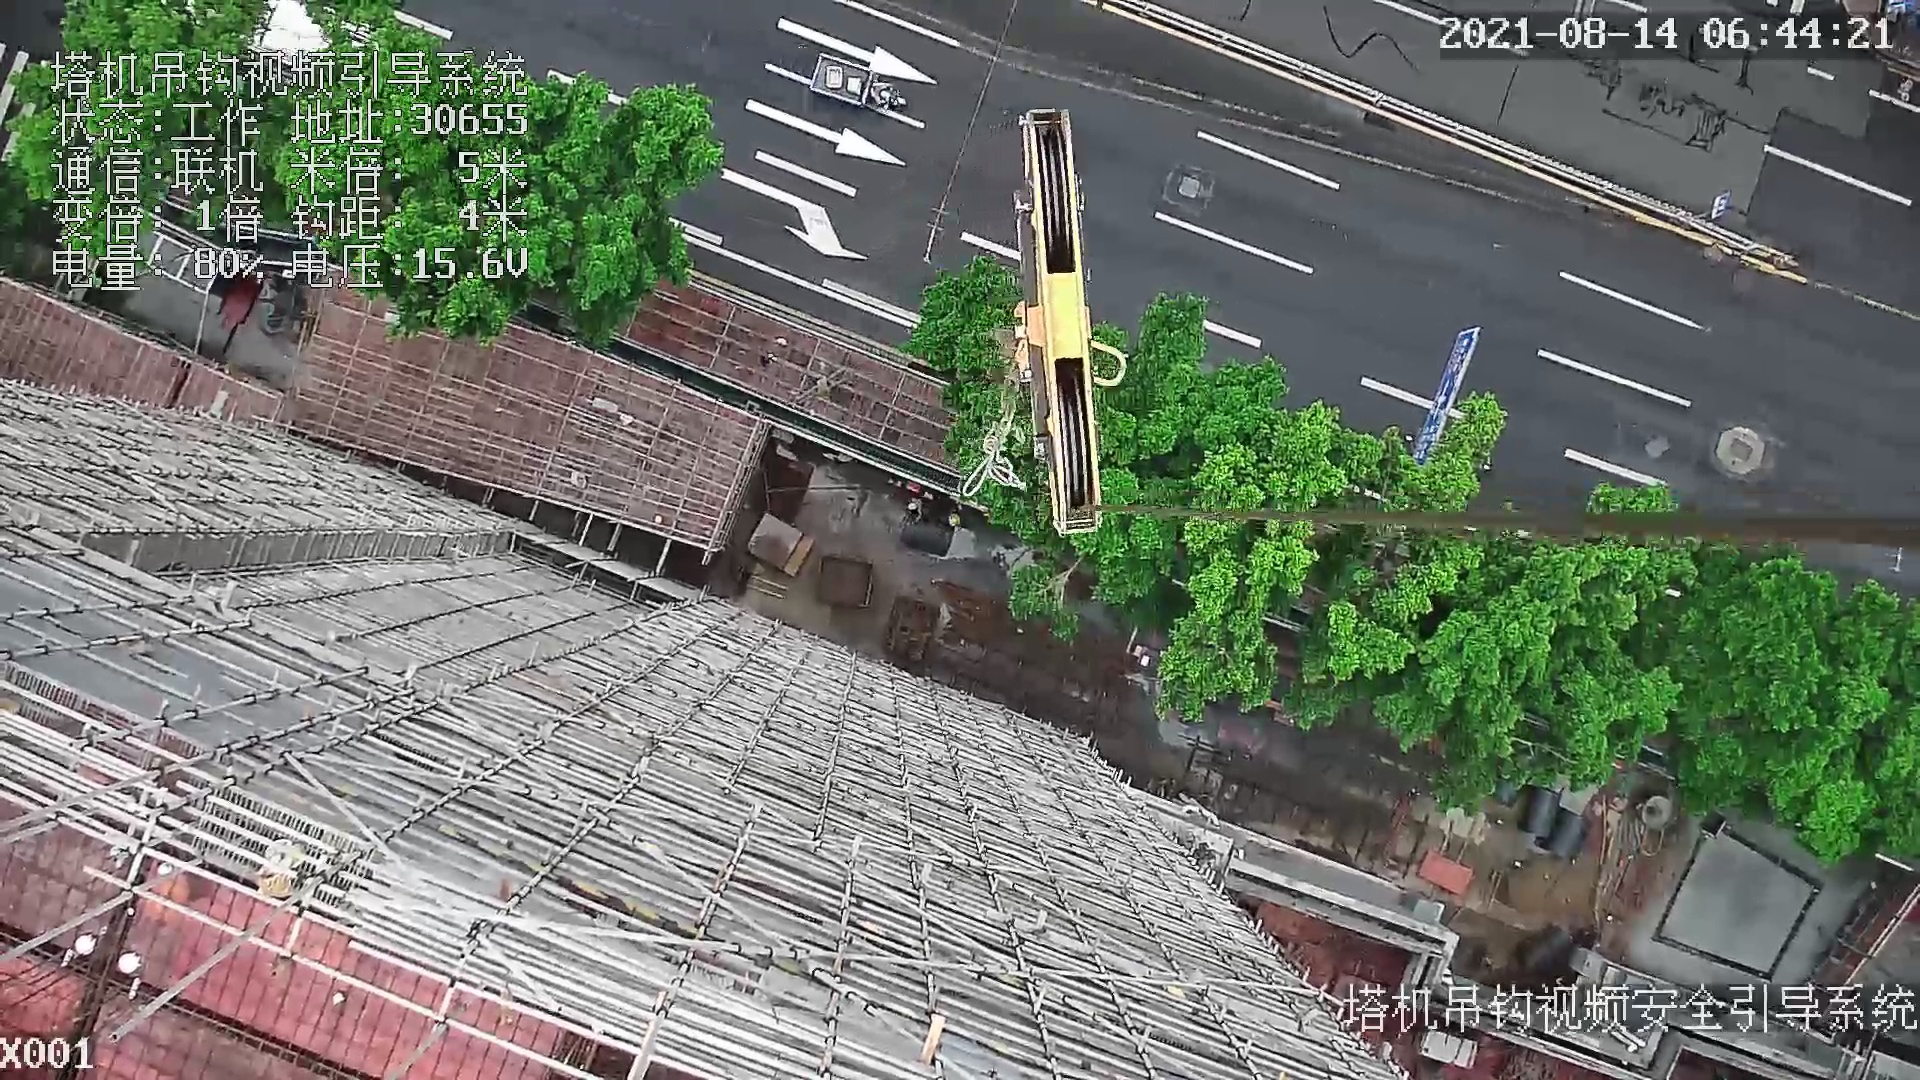hook: (996, 104, 1129, 540)
person: (906, 495, 925, 526)
